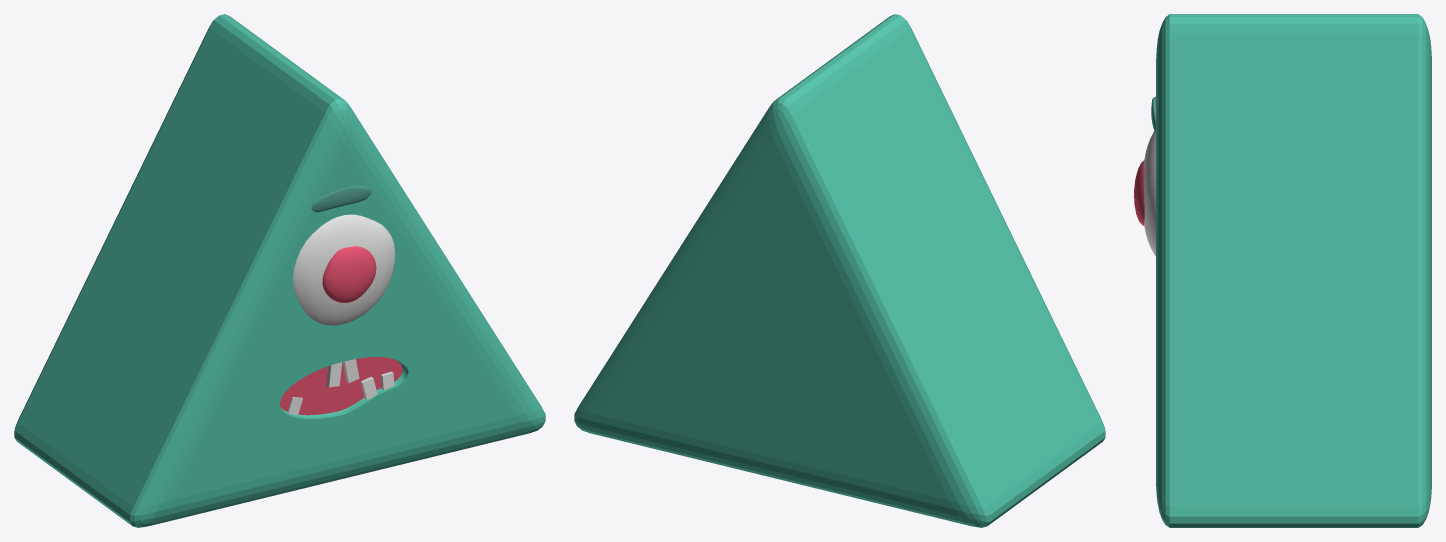
Rendered from GreenTriangleeWIP.fbx.
The picture shows the model from 3 angles, left to right: view 1: azimuth 30°, elevation 25°; view 2: azimuth 150°, elevation 25°; view 3: azimuth 270°, elevation 25°; orthographic projection. The views are drawn at different scales.
Visible parts, largest first — view 1: Cylinder, Sphere.001, Sphere, Sphere.002, Sphere.003; view 2: Cylinder; view 3: Cylinder, Sphere.001, Sphere.002.
Part boxes in pixels (x1,y1,x2,y2): Cylinder: [14, 14, 545, 527]; Sphere.001: [293, 214, 395, 325]; Sphere: [280, 357, 402, 415]; Sphere.002: [322, 246, 376, 302]; Sphere.003: [311, 185, 371, 212]; Cylinder: [574, 14, 1105, 527]; Cylinder: [1156, 14, 1431, 527]; Sphere.001: [1144, 131, 1155, 256]; Sphere.002: [1134, 160, 1144, 225].
Size of the model in its own units: 166 by 145 by 96.01.
